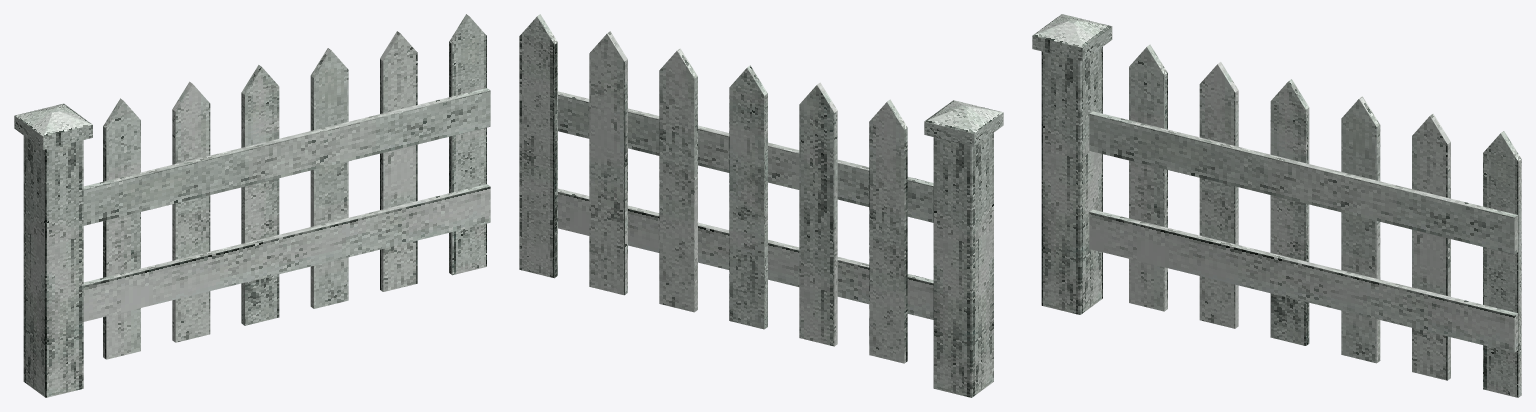
File: white_picket_fence_closed_right.glb
3 views of the same model, side by side, from view 1: azimuth 30°, elevation 25°; view 2: azimuth 150°, elevation 25°; view 3: azimuth 330°, elevation 25° (orthographic). The views are drawn at different scales.
Parts seen in each view (by area): view 1: white_picket_fence_closed_right; view 2: white_picket_fence_closed_right; view 3: white_picket_fence_closed_right.
Part boxes in pixels (x1,y1,x2,y2): white_picket_fence_closed_right: (14, 14, 490, 397); white_picket_fence_closed_right: (519, 14, 1003, 397); white_picket_fence_closed_right: (1032, 14, 1521, 397).
Bounding box in the file's own units: 2.99 × 1.71 × 0.3266.
Materials: 1 (1 with a texture image).
